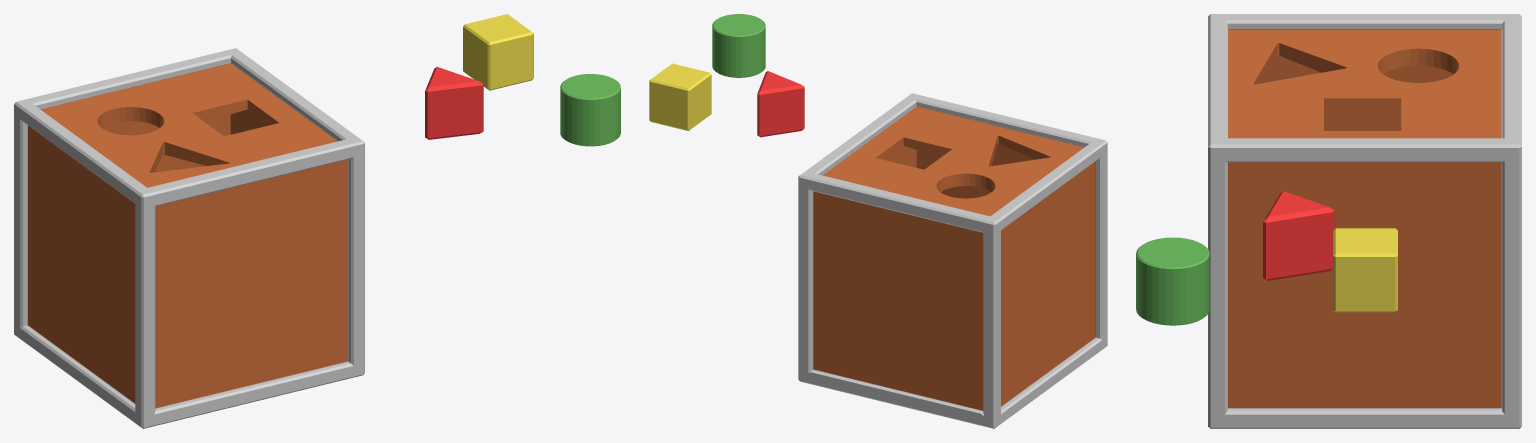
The model's file is legetjsting.fbx.
3 views of the same model, side by side, from view 1: azimuth 30°, elevation 25°; view 2: azimuth 150°, elevation 25°; view 3: azimuth 270°, elevation 25° (orthographic). The views are drawn at different scales.
Parts seen in each view (by area): view 1: Cube, Cube.001, Cylinder, Cube.002; view 2: Cube, Cube.001, Cylinder, Cube.002; view 3: Cube, Cylinder, Cube.001, Cube.002.
Part boxes in pixels (x1=…): Cube: x1=14, y1=48, x2=364, y2=428; Cube.001: x1=463, y1=14, x2=533, y2=90; Cylinder: x1=560, y1=74, x2=620, y2=146; Cube.002: x1=425, y1=67, x2=483, y2=139; Cube: x1=798, y1=93, x2=1107, y2=428; Cube.001: x1=649, y1=63, x2=711, y2=130; Cylinder: x1=712, y1=14, x2=765, y2=77; Cube.002: x1=757, y1=71, x2=804, y2=137; Cube: x1=1208, y1=14, x2=1521, y2=428; Cylinder: x1=1136, y1=237, x2=1209, y2=325; Cube.001: x1=1333, y1=228, x2=1397, y2=312; Cube.002: x1=1263, y1=191, x2=1334, y2=280.
Bounding box in the file's own units: 411 × 215 × 246.
